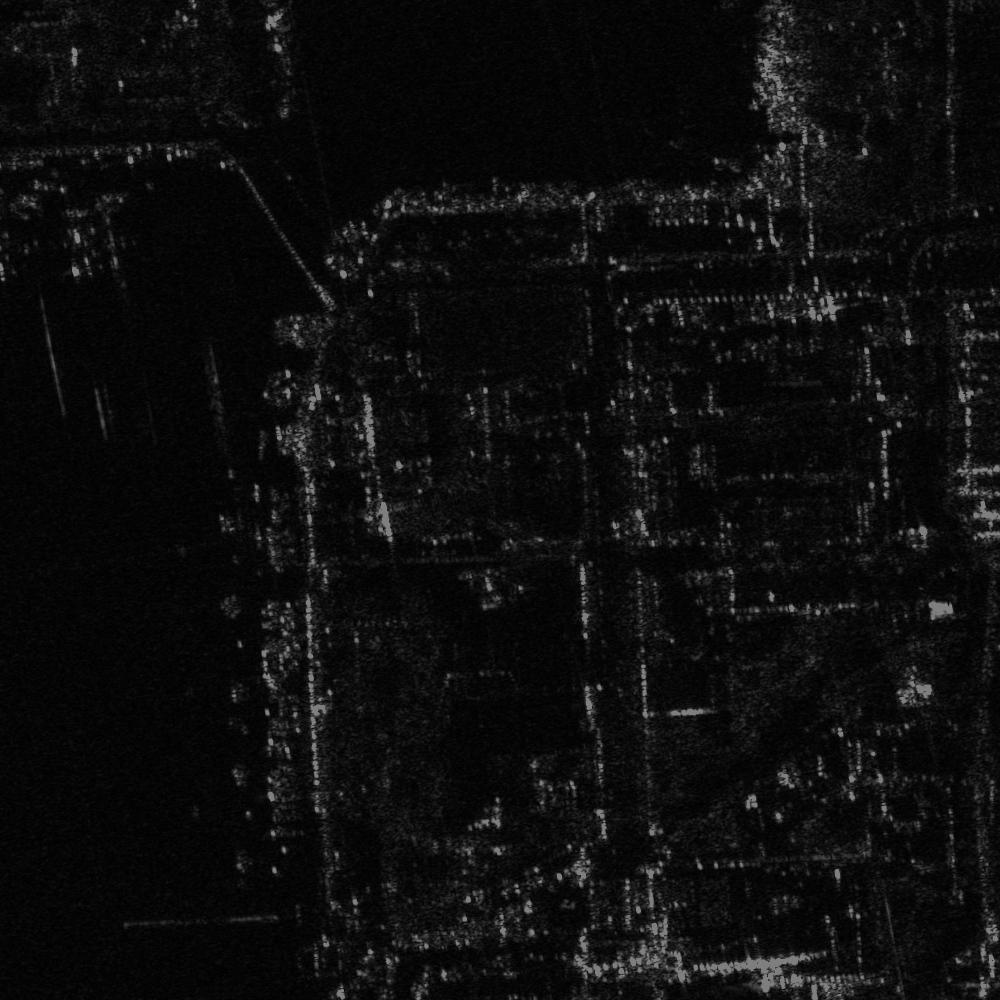Boeing737: (47, 194, 106, 284)
